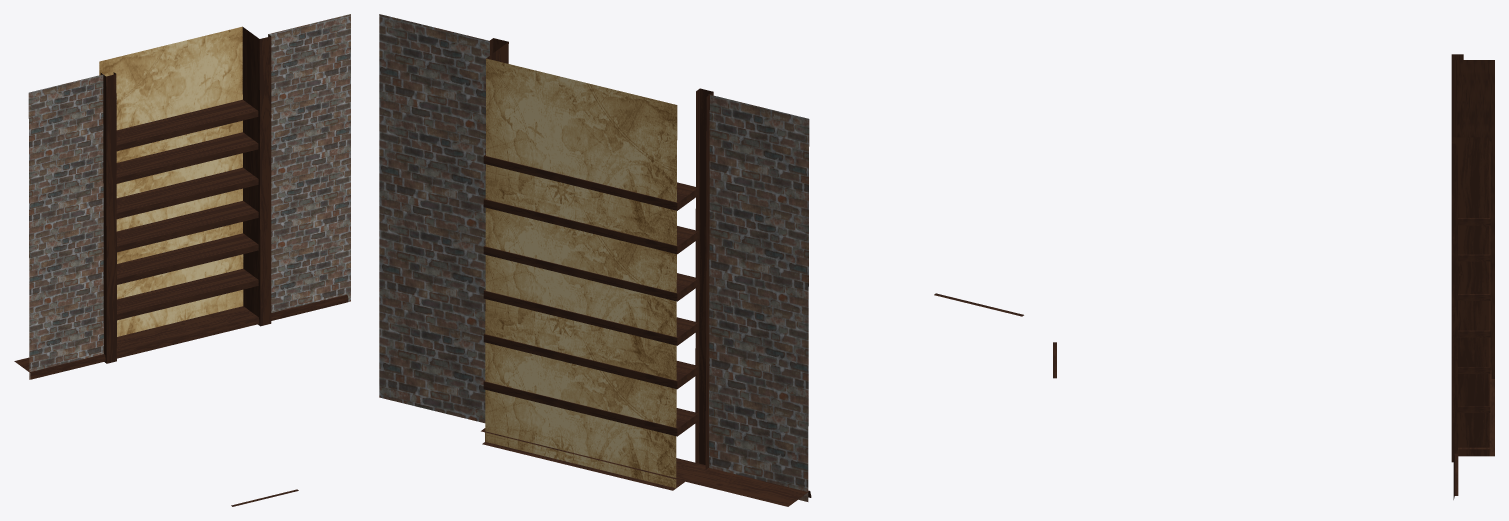
The model's file is mdl_brush_hubshelfwall.gltf.
3 views of the same model, side by side, from view 1: azimuth 30°, elevation 25°; view 2: azimuth 150°, elevation 25°; view 3: azimuth 270°, elevation 25° (orthographic). The views are drawn at different scales.
Parts seen in each view (by area): view 1: Map Shelf; view 2: Map Shelf; view 3: Map Shelf.
Part boxes in pixels (x1,y1,x2,y2): Map Shelf: (14,14,350,506); Map Shelf: (379,14,1023,506); Map Shelf: (1053,54,1494,499).
Bounding box in the file's own units: 12.14 × 10.35 × 13.01.
Materials: 3 (3 with a texture image).
